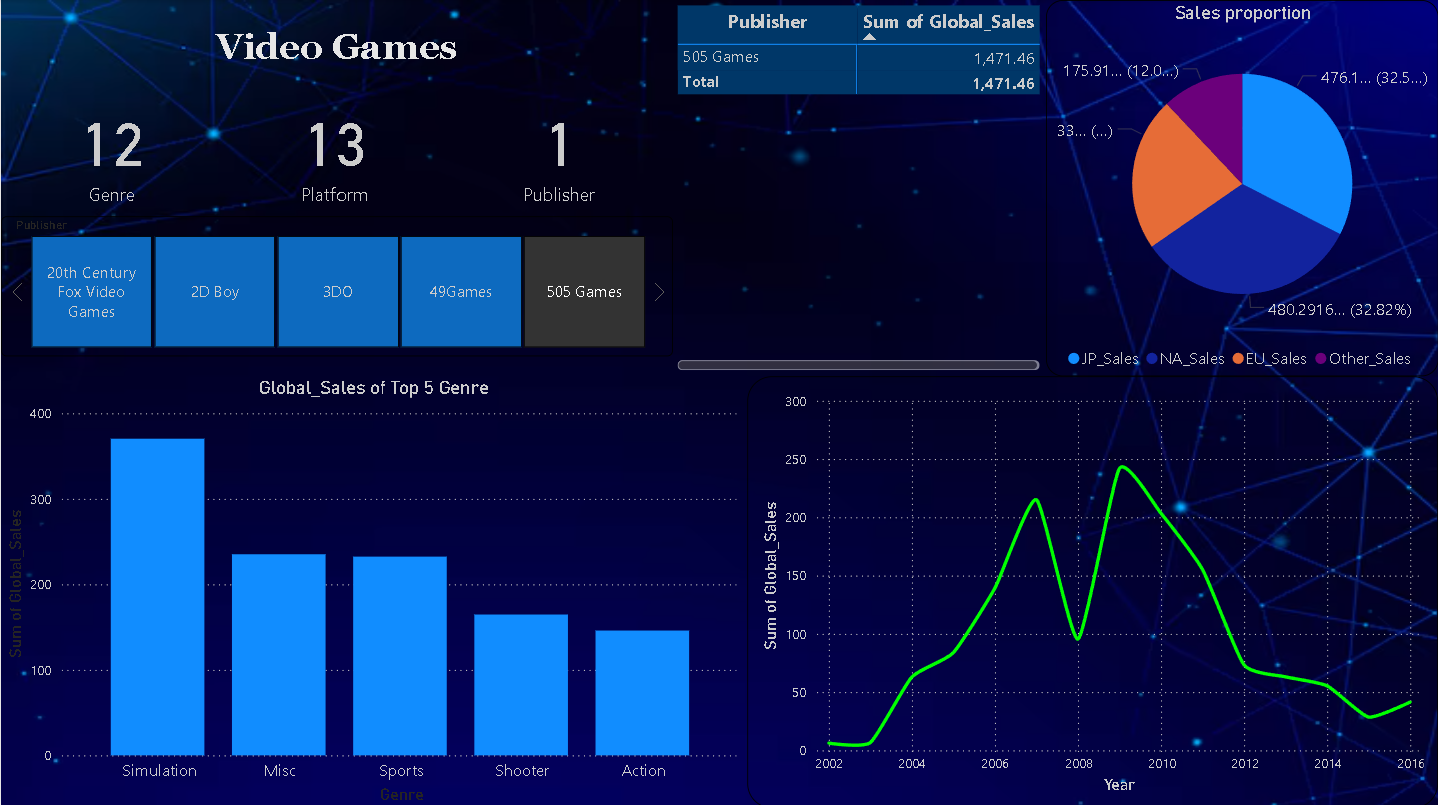

The page's visual inventory and layout, read from the dashboard file:
{"tool":"powerbi","page":{"name":"Page 1","canvas":[1280,720],"ordinal":0},"visuals":[{"type":"lineChart","fields":{"Category":["video_games.Year"],"Y":["Sum(video_games.Global_Sales)"]},"box":[664.2,334.8,616.1,385.6],"z":0},{"type":"pieChart","title":"Sales proportion","fields":{"Y":["Sum(video_games.JP_Sales)","Sum(video_games.NA_Sales)","Sum(video_games.EU_Sales)","Sum(video_games.Other_Sales)"]},"box":[930.4,0,349.9,334.8],"z":1000},{"type":"columnChart","title":"Global_Sales of Top 5 Genre","fields":{"Category":["video_games.Genre"],"Y":["Sum(video_games.Global_Sales)"]},"box":[0,334.8,664.2,385.6],"z":2000},{"type":"card","fields":{"Values":["Count(video_games.Genre)"]},"box":[0,74.1,199,118],"z":3000},{"type":"card","fields":{"Values":["Count(video_games.Platform)"]},"box":[199,74.1,197.6,118],"z":4000},{"type":"card","fields":{"Values":["Count(video_games.Publisher)"]},"box":[396.6,74.1,201.7,118],"z":5000},{"type":"slicer","fields":{"Values":["video_games.Publisher"]},"box":[0,192.1,598.3,124.9],"z":6000},{"type":"textbox","box":[0,0,598.3,74.1],"z":7000},{"type":"pivotTable","title":"             ","fields":{"Rows":["video_games.Publisher"],"Values":["Sum(video_games.Global_Sales)"]},"box":[598.3,0,332.1,334.8],"z":8000}]}

Visuals, with their boxes in screenshot pixels (x1, y1, x2, y2), scaled from the page's 1280x720 canvas onto the 1438x805 screenshot:
lineChart - video_games.Year x Sum(video_games.Global_Sales): BBox(746, 374, 1437, 804)
"Sales proportion" pieChart: BBox(1045, 0, 1437, 374)
"Global_Sales of Top 5 Genre" columnChart: BBox(0, 374, 746, 804)
card - Count(video_games.Genre): BBox(0, 83, 224, 215)
card - Count(video_games.Platform): BBox(224, 83, 446, 215)
card - Count(video_games.Publisher): BBox(446, 83, 672, 215)
slicer - video_games.Publisher: BBox(0, 215, 672, 354)
textbox: BBox(0, 0, 672, 83)
"             " pivotTable: BBox(672, 0, 1045, 374)
